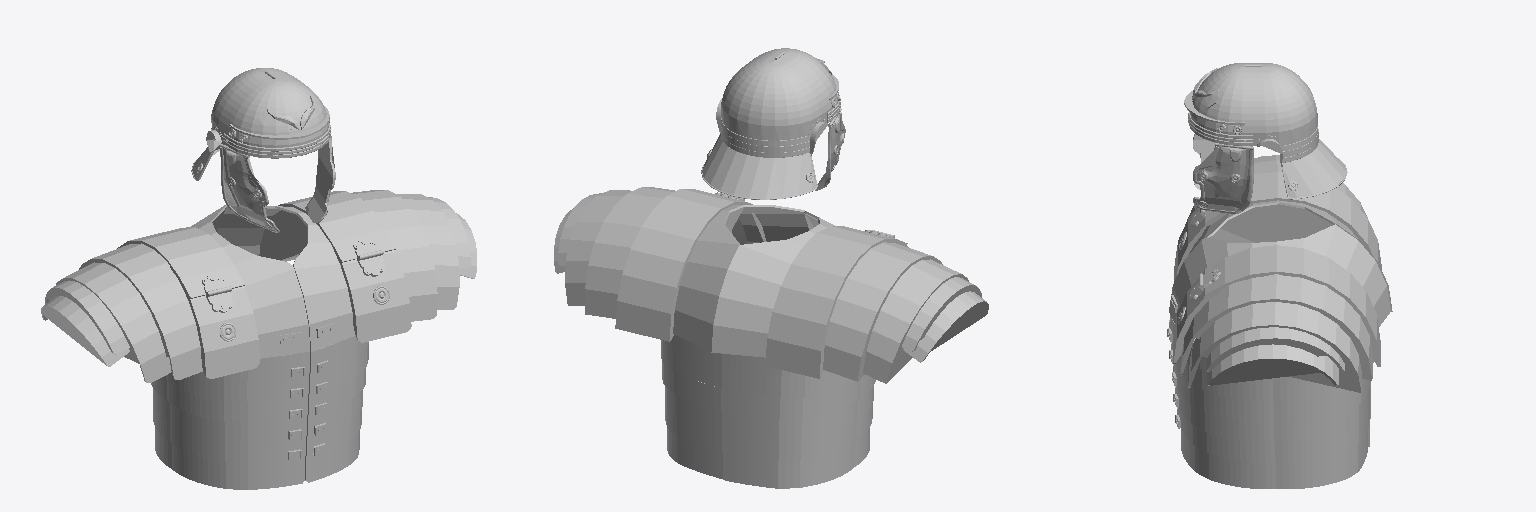
File: prova armatura.obj
3 renders of one model, left to right at view 1: azimuth 30°, elevation 25°; view 2: azimuth 150°, elevation 25°; view 3: azimuth 270°, elevation 25°, orthographic.
Parts seen in each view (by area): view 1: Mesh1 Group1 Model, Mesh42 Component_3_1 Model, Mesh36 Component_6_1 Model, Mesh24 Group2 Model, Mesh41 Component_2_2 Model, Mesh35 Component_2_1 Model, Mesh39 Component_6_1 Model, Mesh37 Component_6_1 Model, Mesh45 Component_3_1 Model, Mesh43 Component_3_1 Model, Mesh2 Group3 Group2 Model, Mesh40 Component_6_1 Model (+3 smaller); view 2: Mesh1 Group1 Model, Mesh24 Group2 Model, Mesh42 Component_3_1 Model, Mesh36 Component_6_1 Model, Mesh35 Component_2_1 Model, Mesh41 Component_2_2 Model, Mesh39 Component_6_1 Model, Mesh45 Component_3_1 Model, Mesh37 Component_6_1 Model, Mesh43 Component_3_1 Model, Mesh40 Component_6_1 Model, Mesh38 Component_6_1 Model (+2 smaller); view 3: Mesh1 Group1 Model, Mesh24 Group2 Model, Mesh36 Component_6_1 Model, Mesh42 Component_3_1 Model, Mesh45 Component_3_1 Model, Mesh43 Component_3_1 Model, Mesh41 Component_2_2 Model, Mesh46 Component_3_1 Model, Mesh4 Group4 Group2 Model, Mesh44 Component_3_1 Model, Mesh35 Component_2_1 Model, Mesh39 Component_6_1 Model.
Boxes of the visible parts, x1=… form: Mesh1 Group1 Model: x1=151, y1=336, x2=368, y2=489; Mesh42 Component_3_1 Model: x1=259, y1=191, x2=411, y2=342; Mesh36 Component_6_1 Model: x1=117, y1=227, x2=259, y2=378; Mesh24 Group2 Model: x1=191, y1=68, x2=330, y2=180; Mesh41 Component_2_2 Model: x1=212, y1=206, x2=355, y2=351; Mesh35 Component_2_1 Model: x1=191, y1=205, x2=309, y2=358; Mesh39 Component_6_1 Model: x1=79, y1=243, x2=202, y2=379; Mesh37 Component_6_1 Model: x1=56, y1=262, x2=171, y2=382; Mesh45 Component_3_1 Model: x1=351, y1=190, x2=437, y2=321; Mesh43 Component_3_1 Model: x1=397, y1=194, x2=459, y2=309; Mesh2 Group3 Group2 Model: x1=219, y1=144, x2=279, y2=232; Mesh40 Component_6_1 Model: x1=41, y1=296, x2=129, y2=366; Mesh1 Group1 Model: x1=661, y1=335, x2=875, y2=488; Mesh24 Group2 Model: x1=701, y1=48, x2=840, y2=199; Mesh42 Component_3_1 Model: x1=615, y1=189, x2=766, y2=341; Mesh36 Component_6_1 Model: x1=765, y1=226, x2=908, y2=378; Mesh35 Component_2_1 Model: x1=711, y1=211, x2=834, y2=357; Mesh41 Component_2_2 Model: x1=673, y1=205, x2=813, y2=351; Mesh39 Component_6_1 Model: x1=823, y1=242, x2=942, y2=381; Mesh45 Component_3_1 Model: x1=585, y1=187, x2=731, y2=318; Mesh37 Component_6_1 Model: x1=863, y1=259, x2=968, y2=383; Mesh43 Component_3_1 Model: x1=565, y1=190, x2=631, y2=305; Mesh40 Component_6_1 Model: x1=903, y1=291, x2=988, y2=362; Mesh38 Component_6_1 Model: x1=902, y1=277, x2=981, y2=351; Mesh1 Group1 Model: x1=1170, y1=315, x2=1370, y2=488; Mesh24 Group2 Model: x1=1184, y1=63, x2=1347, y2=199; Mesh36 Component_6_1 Model: x1=1174, y1=172, x2=1381, y2=280; Mesh42 Component_3_1 Model: x1=1173, y1=245, x2=1380, y2=366; Mesh45 Component_3_1 Model: x1=1180, y1=274, x2=1373, y2=380; Mesh43 Component_3_1 Model: x1=1188, y1=302, x2=1361, y2=392; Mesh41 Component_2_2 Model: x1=1169, y1=224, x2=1390, y2=326; Mesh46 Component_3_1 Model: x1=1207, y1=344, x2=1338, y2=385; Mesh4 Group4 Group2 Model: x1=1193, y1=143, x2=1253, y2=213; Mesh44 Component_3_1 Model: x1=1206, y1=327, x2=1344, y2=371; Mesh35 Component_2_1 Model: x1=1189, y1=200, x2=1392, y2=311; Mesh39 Component_6_1 Model: x1=1187, y1=160, x2=1367, y2=242.
Bounding box in the file's own units: 1.99 × 1.82 × 0.9711.